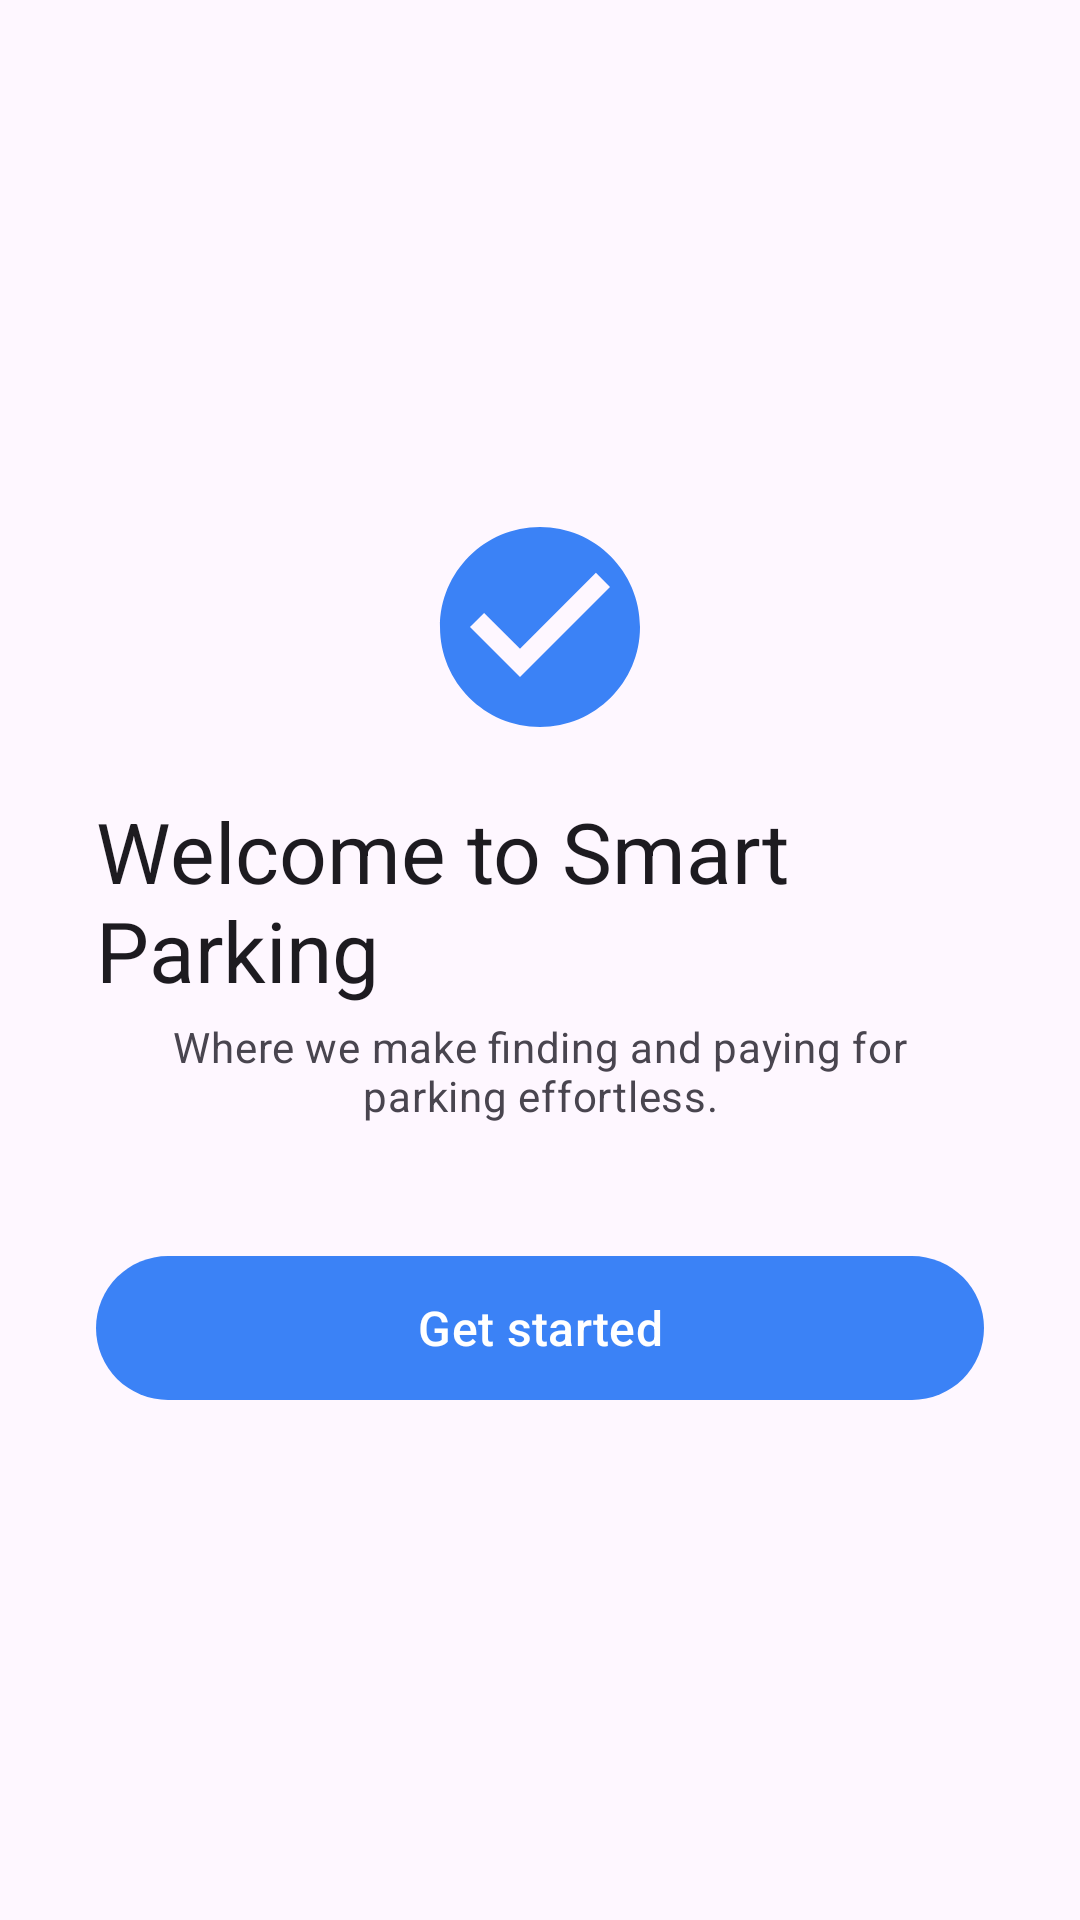

Locate icon controls on the screen. Image size 1080*1920, boxes as [x1,y1,x2,y2].
check circle: [440,527,640,727]
